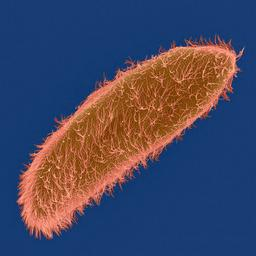Paramecium: (17, 45, 237, 238)
